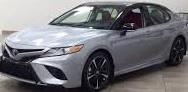Cars: (1, 3, 187, 89)
